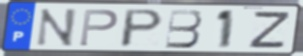1: (215, 9, 237, 50)
B: (164, 8, 204, 49)
N: (34, 7, 79, 48)
P: (117, 8, 166, 49), (78, 8, 120, 48)
Z: (246, 10, 293, 50)
